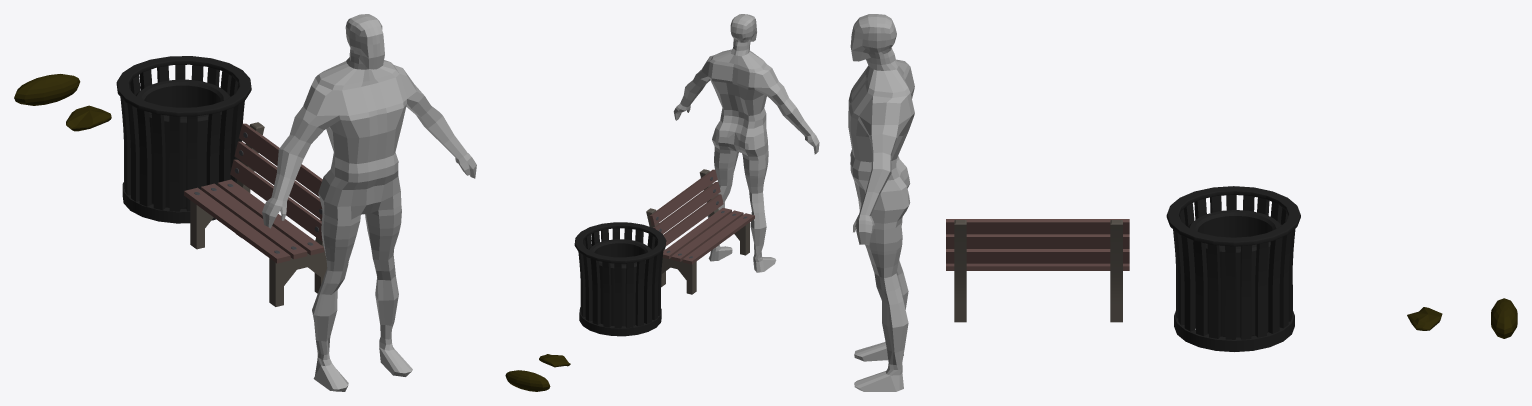
Rendered from Poo.fbx.
The picture shows the model from 3 angles, left to right: view 1: azimuth 30°, elevation 25°; view 2: azimuth 150°, elevation 25°; view 3: azimuth 270°, elevation 25°; orthographic projection. The views are drawn at different scales.
Parts seen in each view (by area): view 1: Player_Model, Outer_Bin, Planks_Bottom, Bin_Can, Planks_Bottom1, Outer_Bin_Ridge, Bench_Base, Long_Poo, Outer_Bin_Base, Poo_Splatter; view 2: Player_Model, Outer_Bin, Planks_Bottom1, Planks_Bottom, Bin_Can, Outer_Bin_Ridge, Bench_Base, Outer_Bin_Base, Long_Poo, Poo_Splatter; view 3: Player_Model, Outer_Bin, Planks_Bottom1, Bin_Can, Outer_Bin_Ridge, Bench_Base, Outer_Bin_Base, Planks_Bottom, Long_Poo, Poo_Splatter.
Part boxes in pixels (left/top/right/bottom): Player_Model: left=262, top=14, right=476, bottom=391; Outer_Bin: left=120, top=65, right=244, bottom=211; Planks_Bottom: left=184, top=179, right=324, bottom=263; Bin_Can: left=136, top=79, right=230, bottom=208; Planks_Bottom1: left=230, top=123, right=322, bottom=241; Outer_Bin_Ridge: left=116, top=56, right=251, bottom=116; Bench_Base: left=190, top=122, right=327, bottom=306; Long_Poo: left=14, top=74, right=80, bottom=105; Outer_Bin_Base: left=122, top=182, right=215, bottom=223; Poo_Splatter: left=66, top=105, right=111, bottom=131; Player_Model: left=673, top=14, right=819, bottom=272; Outer_Bin: left=578, top=228, right=663, bottom=328; Planks_Bottom1: left=649, top=169, right=723, bottom=246; Planks_Bottom: left=662, top=207, right=754, bottom=264; Bin_Can: left=588, top=239, right=651, bottom=326; Outer_Bin_Ridge: left=574, top=222, right=666, bottom=263; Bench_Base: left=646, top=169, right=749, bottom=294; Outer_Bin_Base: left=579, top=307, right=661, bottom=336; Long_Poo: left=505, top=370, right=550, bottom=391; Poo_Splatter: left=539, top=354, right=570, bottom=367; Player_Model: left=848, top=14, right=914, bottom=391; Outer_Bin: left=1173, top=195, right=1295, bottom=339; Planks_Bottom1: left=946, top=219, right=1129, bottom=263; Bin_Can: left=1188, top=210, right=1281, bottom=337; Outer_Bin_Ridge: left=1166, top=186, right=1300, bottom=246; Bench_Base: left=954, top=220, right=1122, bottom=322; Outer_Bin_Base: left=1174, top=311, right=1294, bottom=351; Planks_Bottom: left=946, top=263, right=1129, bottom=270; Long_Poo: left=1491, top=298, right=1517, bottom=338; Poo_Splatter: left=1407, top=307, right=1442, bottom=330.
Bounding box in the file's own units: 1065 × 1744 × 2976.
